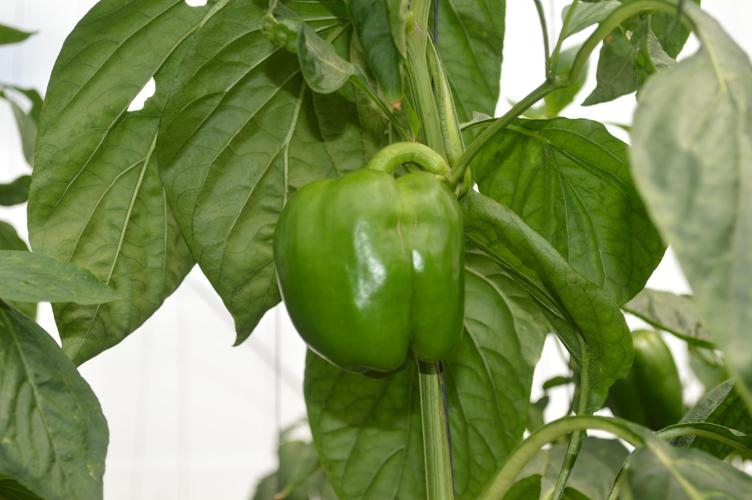BellPepper: (270, 172, 455, 379), (607, 332, 686, 437)
